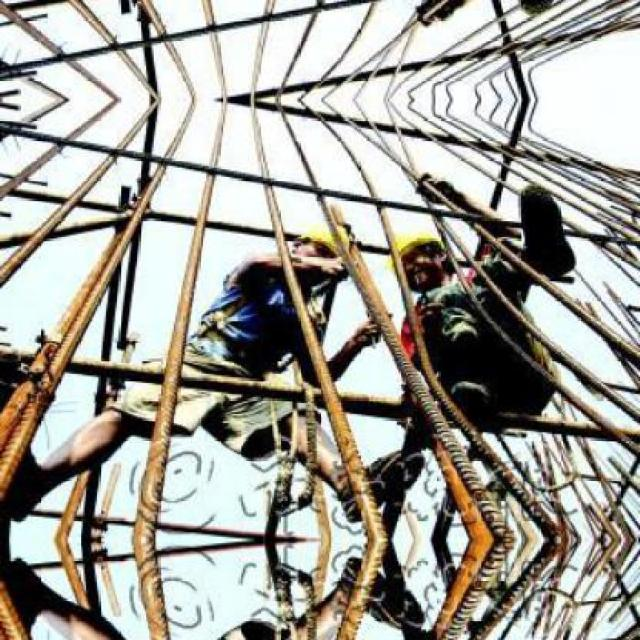helmet: (380, 221, 463, 287), (287, 220, 353, 286)
